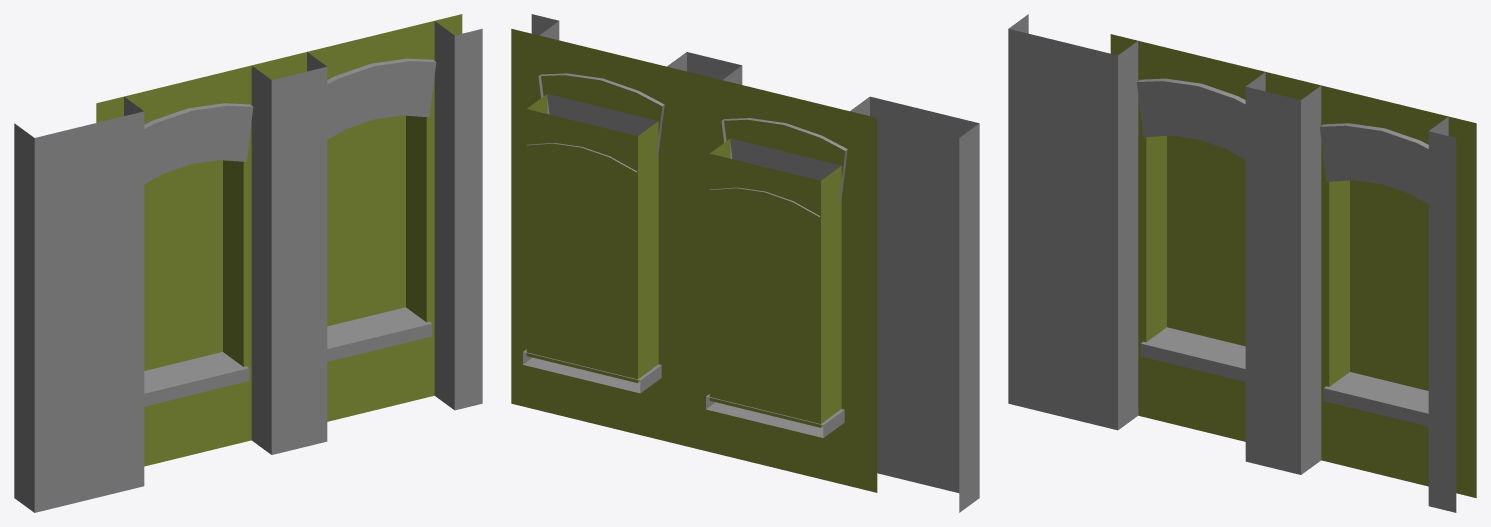
File: wall1b L.FBX
3 renders of one model, left to right at view 1: azimuth 30°, elevation 25°; view 2: azimuth 150°, elevation 25°; view 3: azimuth 330°, elevation 25°, orthographic.
Visible parts, largest first — view 1: Object1058; view 2: Object1058; view 3: Object1058.
Boxes of the visible parts, x1,y1,x2,y2 form: Object1058: (14, 14, 482, 512); Object1058: (511, 14, 979, 512); Object1058: (1008, 14, 1476, 512).
Bounding box in the file's own units: 5 × 4 × 0.809.
